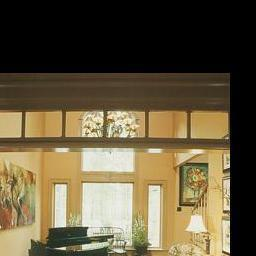Escaleras: (187, 186, 206, 245)
Otro Obstaculo: (25, 224, 116, 256)
